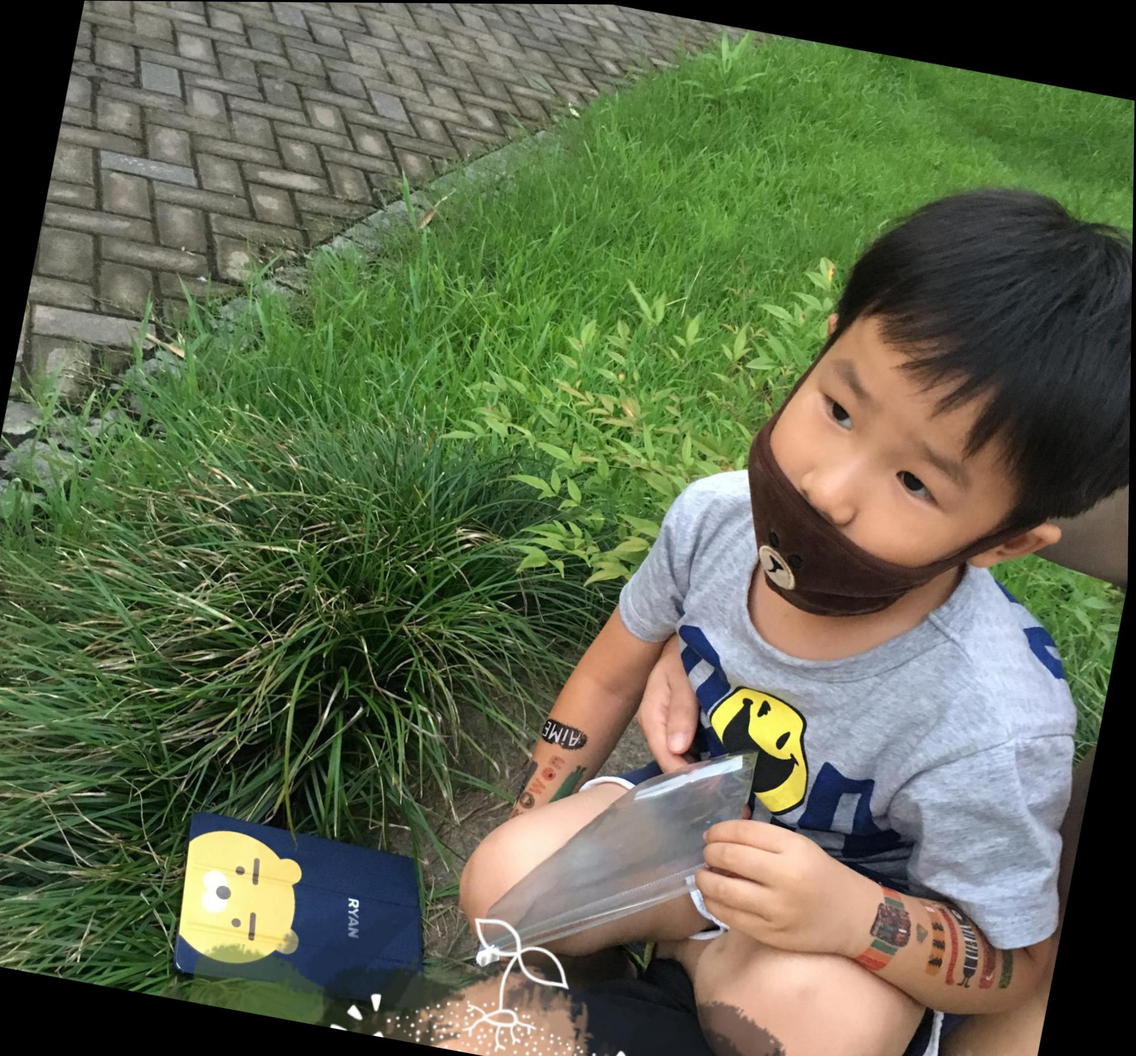WRONG: (730, 336, 1003, 638)
